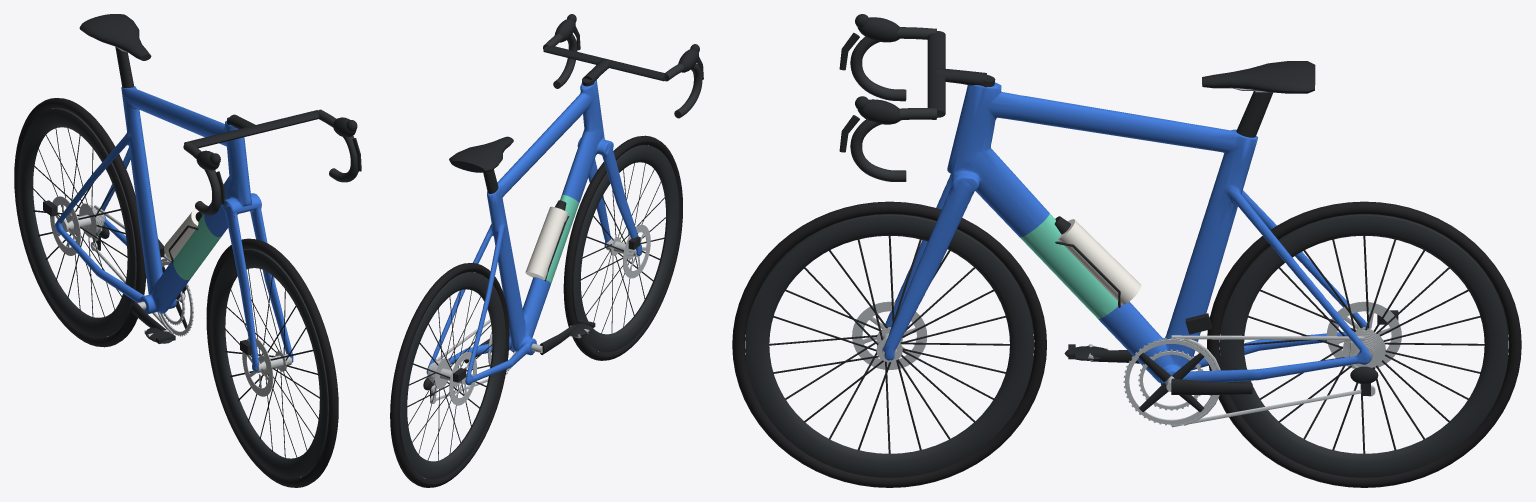
File: bike.glb
3 renders of one model, left to right at view 1: azimuth 30°, elevation 25°; view 2: azimuth 150°, elevation 25°; view 3: azimuth 270°, elevation 25°, orthographic. The views are drawn at different scales.
Parts seen in each view (by area): view 1: BikeFrame, WheelFront, WheelRear, Crankset; view 2: BikeFrame, WheelRear, WheelFront, Crankset; view 3: BikeFrame, WheelFront, WheelRear, Crankset.
Boxes of the visible parts, left/top/right/bottom form: BikeFrame: left=43, top=14, right=361, bottom=371; WheelFront: left=206, top=238, right=338, bottom=487; WheelRear: left=14, top=98, right=146, bottom=347; Crankset: left=131, top=262, right=193, bottom=336; BikeFrame: left=423, top=14, right=703, bottom=403; WheelRear: left=390, top=263, right=509, bottom=487; WheelFront: left=563, top=135, right=682, bottom=360; Crankset: left=464, top=324, right=575, bottom=371; BikeFrame: left=839, top=14, right=1398, bottom=427; WheelFront: left=732, top=201, right=1046, bottom=487; WheelRear: left=1207, top=201, right=1521, bottom=487; Crankset: left=1090, top=338, right=1252, bottom=425.
Size of the model in its own units: 0.458 by 1.01 by 1.68.
